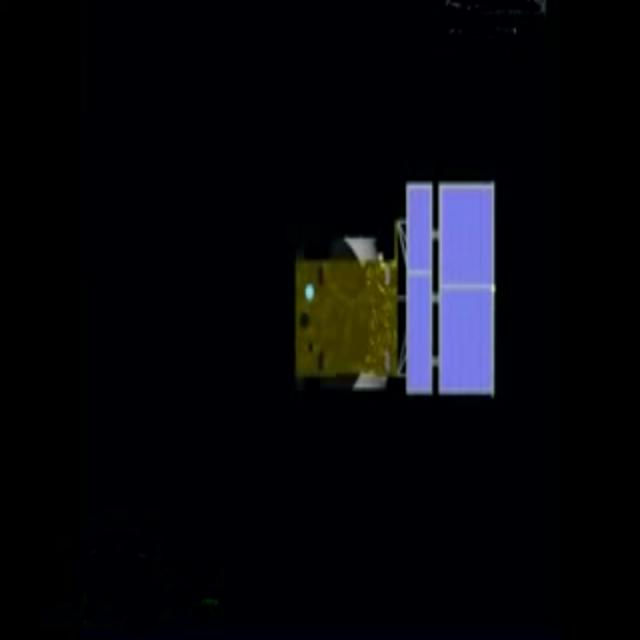satellite: (281, 154, 510, 433)
